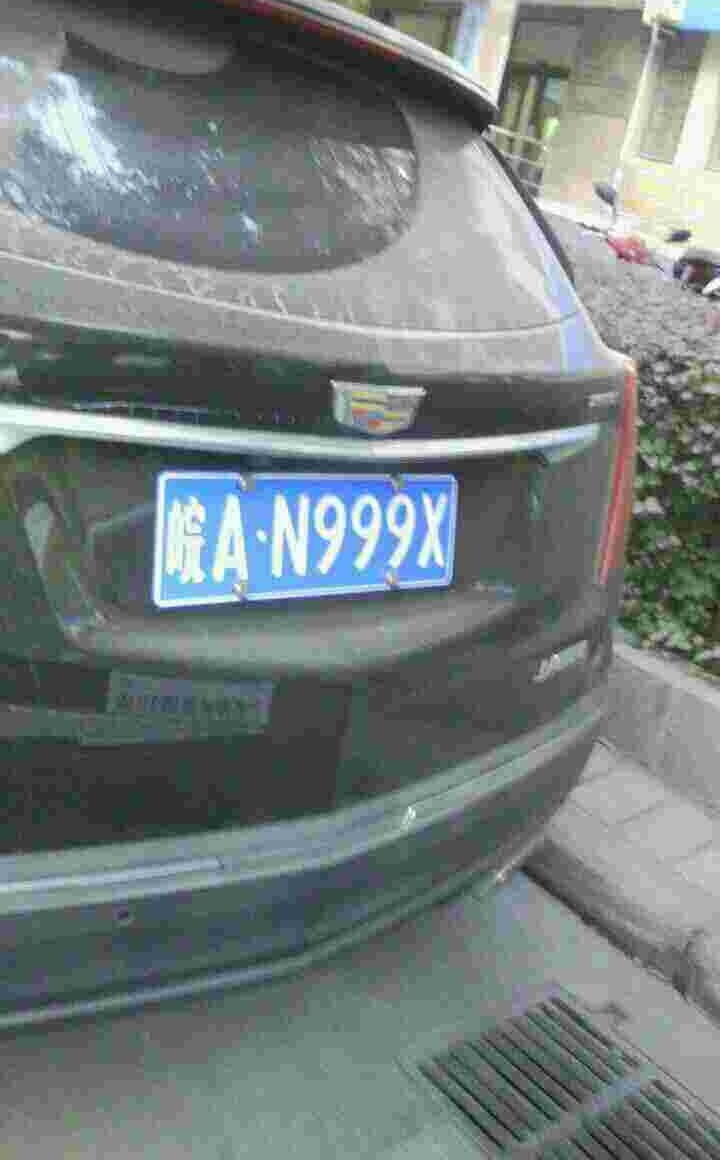license_plate: (155, 478, 456, 600)
